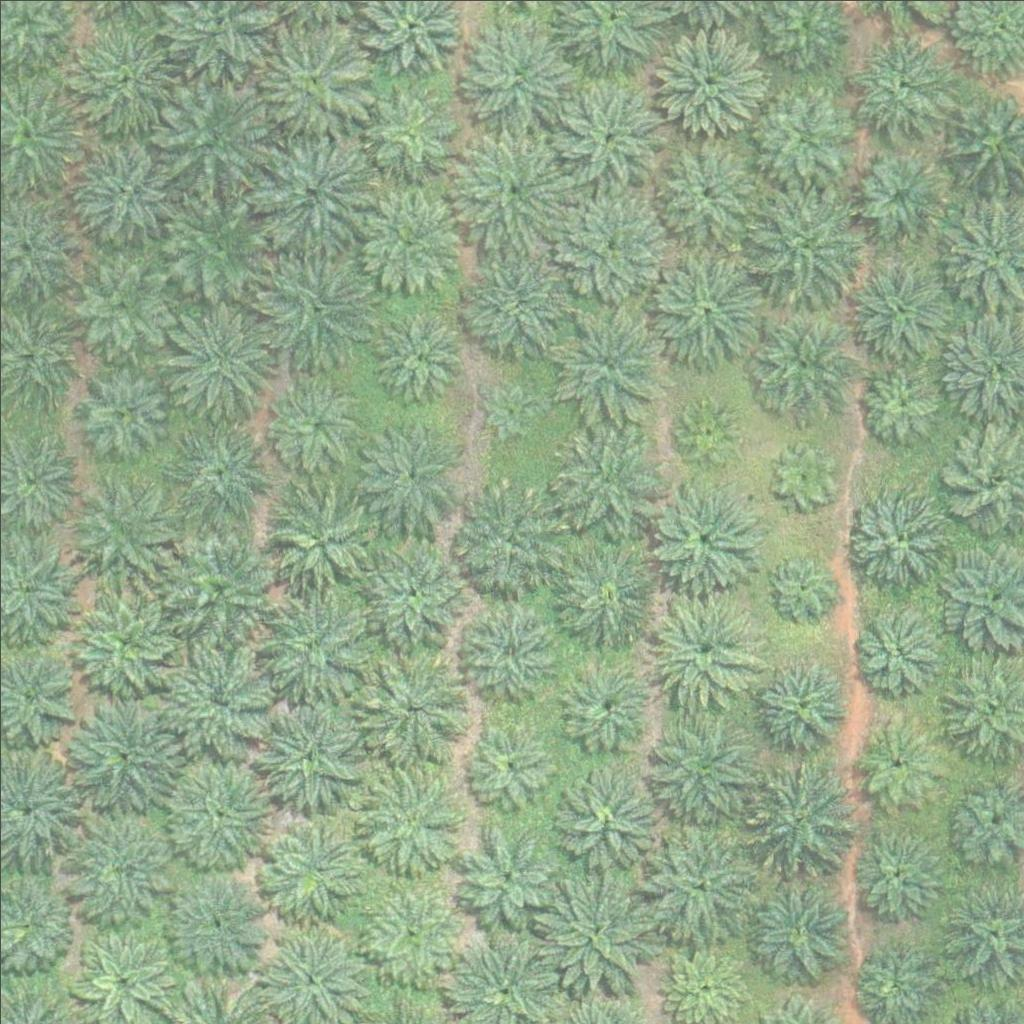Kelapa_Sawit: (738, 871, 851, 985), (746, 758, 859, 872), (164, 192, 277, 306), (258, 256, 371, 370), (352, 412, 465, 526), (157, 82, 270, 196), (740, 650, 853, 763), (648, 588, 761, 701), (351, 760, 464, 873), (359, 651, 472, 764), (162, 867, 275, 980), (59, 813, 172, 926), (67, 703, 180, 816), (65, 582, 178, 695), (254, 583, 367, 696), (263, 484, 376, 597), (258, 135, 371, 248), (354, 532, 467, 645), (555, 311, 668, 424), (551, 188, 664, 301), (646, 477, 759, 590), (649, 251, 762, 364), (649, 21, 762, 134), (556, 76, 669, 189), (257, 22, 370, 135), (641, 826, 753, 940), (644, 714, 756, 828), (547, 646, 659, 760), (70, 131, 182, 245), (453, 477, 565, 591), (550, 534, 662, 648), (62, 23, 174, 137), (540, 877, 652, 990), (546, 764, 658, 877), (252, 696, 364, 809), (164, 753, 276, 866), (163, 641, 275, 754), (64, 471, 176, 584), (161, 531, 273, 644), (165, 419, 277, 532), (163, 307, 275, 420), (352, 180, 464, 293), (458, 246, 570, 359), (456, 133, 568, 246), (547, 422, 659, 535), (650, 132, 762, 245), (746, 305, 858, 418), (747, 183, 859, 296), (838, 478, 950, 591), (844, 247, 956, 360), (462, 15, 574, 128), (459, 827, 559, 928), (363, 881, 463, 982), (263, 821, 363, 922), (70, 357, 170, 458), (70, 254, 170, 355), (848, 142, 948, 243), (748, 87, 848, 188), (359, 87, 459, 188), (846, 822, 946, 922), (456, 599, 556, 699), (266, 376, 366, 476), (368, 307, 468, 407), (845, 38, 945, 138), (853, 602, 941, 690), (856, 362, 944, 450), (854, 718, 941, 806), (463, 721, 550, 809), (675, 400, 738, 463), (767, 554, 830, 617), (772, 443, 835, 506), (479, 380, 541, 443)
